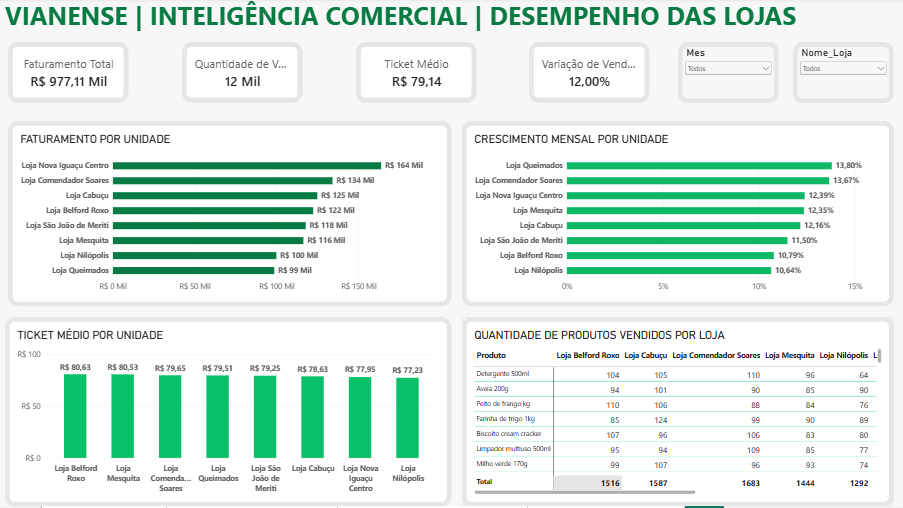

The dashboard page shown, as its layout file describes it:
{"tool":"powerbi","page":{"name":"03 - Desempenho das Lojas","canvas":[1920,1080],"ordinal":2},"visuals":[{"type":"textbox","box":[10.8,0,1844.5,105.2],"z":0},{"type":"cardVisual","fields":{"Data":["tb_Vendas.Faturamento Total"]},"box":[16.9,93.5,256.2,129.4],"z":1000},{"type":"cardVisual","fields":{"Data":["tb_Vendas.Ticket Médio"]},"box":[755.9,93.5,256,129],"z":2000},{"type":"cardVisual","fields":{"Data":["tb_Vendas.Variação de Vendas (%)"]},"box":[1125.2,93.5,256,129],"z":3000},{"type":"cardVisual","fields":{"Data":["tb_Vendas.Quantidade de Vendas"]},"box":[386.5,93.5,256,129],"z":4000},{"type":"barChart","title":"FATURAMENTO POR UNIDADE","fields":{"Category":["tb_Lojas.Nome_Loja"],"Y":["tb_Vendas.Faturamento Total"]},"box":[16.9,261.8,943.1,394.1],"z":5000},{"type":"slicer","fields":{"Values":["tb_Calendario.Mes"]},"box":[1441.4,92.9,214,129.5],"z":6000},{"type":"clusteredBarChart","title":"CRESCIMENTO MENSAL POR UNIDADE","fields":{"Category":["tb_Lojas.Nome_Loja"],"Y":["tb_Vendas.Crescimento Mensal (%)"]},"box":[982.5,261.8,917.8,394.1],"z":7000},{"type":"columnChart","title":"TICKET MÉDIO POR UNIDADE","fields":{"Category":["tb_Lojas.Nome_Loja"],"Y":["tb_Vendas.Ticket Médio"]},"box":[11.3,678.5,948.7,402.6],"z":8000},{"type":"pivotTable","title":"QUANTIDADE DE PRODUTOS VENDIDOS POR LOJA","fields":{"Columns":["tb_Lojas.Nome_Loja"],"Rows":["tb_Produtos.Produto"],"Values":["tb_Vendas.Quantidade de Vendas"]},"box":[982.5,678.5,917.8,402.6],"z":9000},{"type":"slicer","fields":{"Values":["tb_Lojas.Nome_Loja"]},"box":[1686.3,92.9,214,129.5],"z":10000}]}

Visuals, with their boxes in screenshot pixels (x1, y1, x2, y2), scaled from the page's 1920x1080 canvas onto the 903x508 screenshot:
textbox: <region>5, 0, 873, 49</region>
cardVisual - tb_Vendas.Faturamento Total: <region>8, 44, 128, 105</region>
cardVisual - tb_Vendas.Ticket Médio: <region>356, 44, 476, 105</region>
cardVisual - tb_Vendas.Variação de Vendas (%): <region>529, 44, 650, 105</region>
cardVisual - tb_Vendas.Quantidade de Vendas: <region>182, 44, 302, 105</region>
"FATURAMENTO POR UNIDADE" barChart: <region>8, 123, 452, 309</region>
slicer - tb_Calendario.Mes: <region>678, 44, 779, 105</region>
"CRESCIMENTO MENSAL POR UNIDADE" clusteredBarChart: <region>462, 123, 894, 309</region>
"TICKET MÉDIO POR UNIDADE" columnChart: <region>5, 319, 452, 507</region>
"QUANTIDADE DE PRODUTOS VENDIDOS POR LOJA" pivotTable: <region>462, 319, 894, 507</region>
slicer - tb_Lojas.Nome_Loja: <region>793, 44, 894, 105</region>
